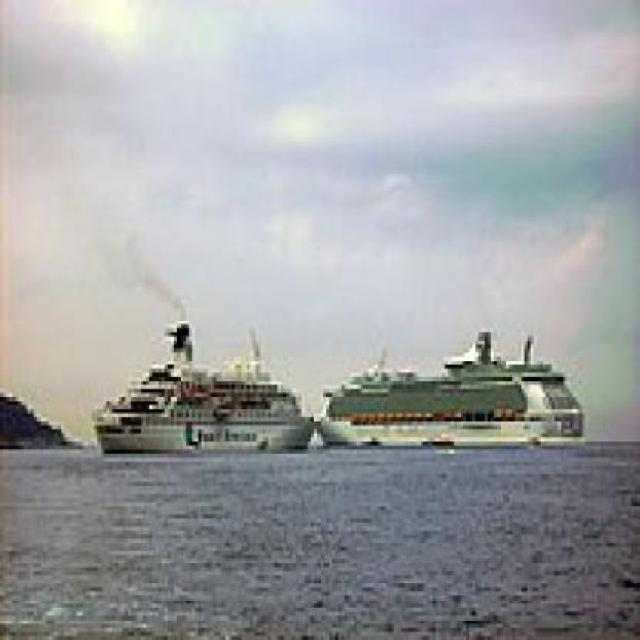cruise: (309, 320, 601, 471), (83, 297, 330, 471)
